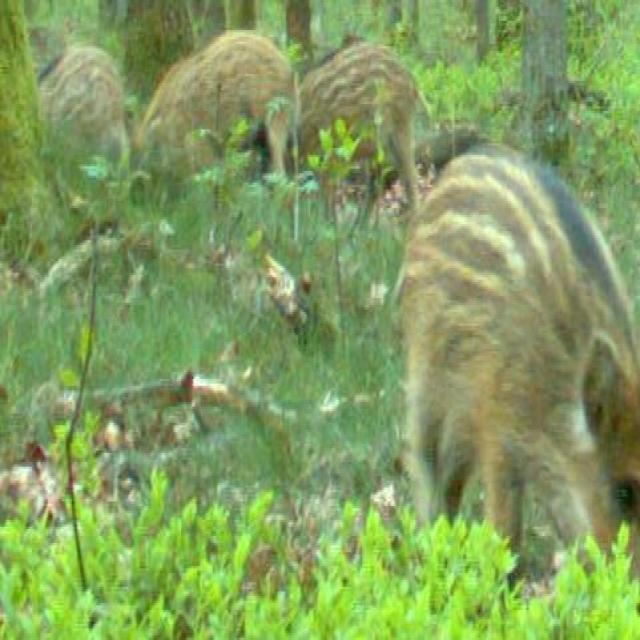pig: (392, 131, 640, 640)
